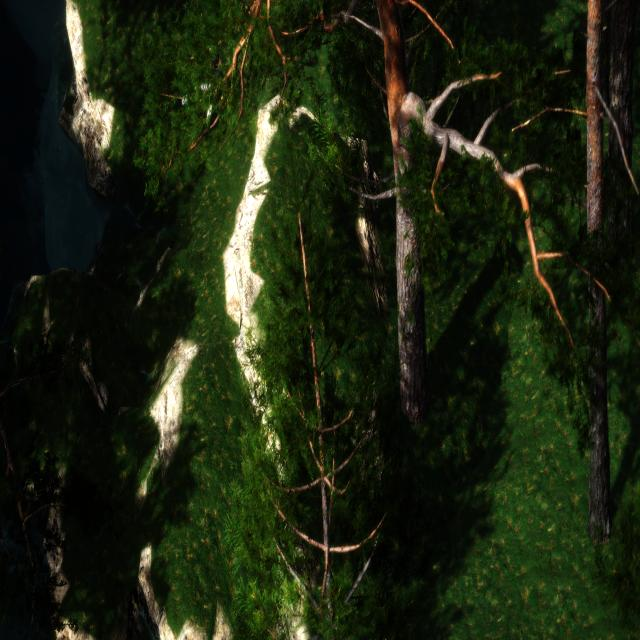Human: (175, 45, 239, 140)
